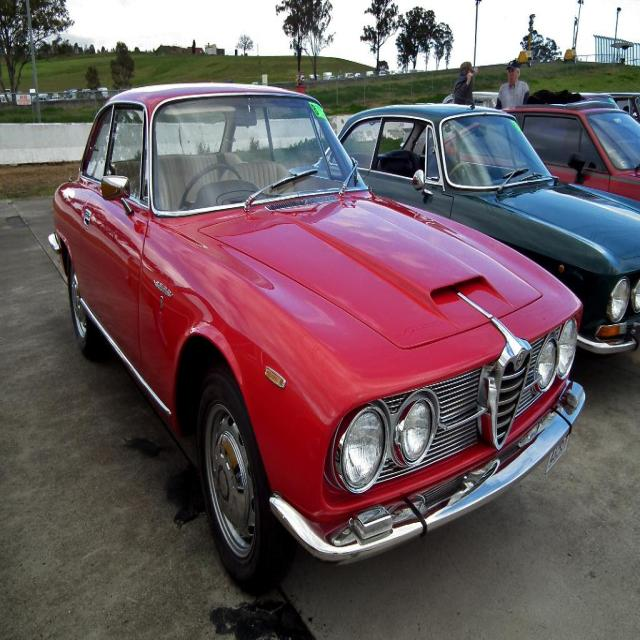car: (43, 72, 583, 592)
